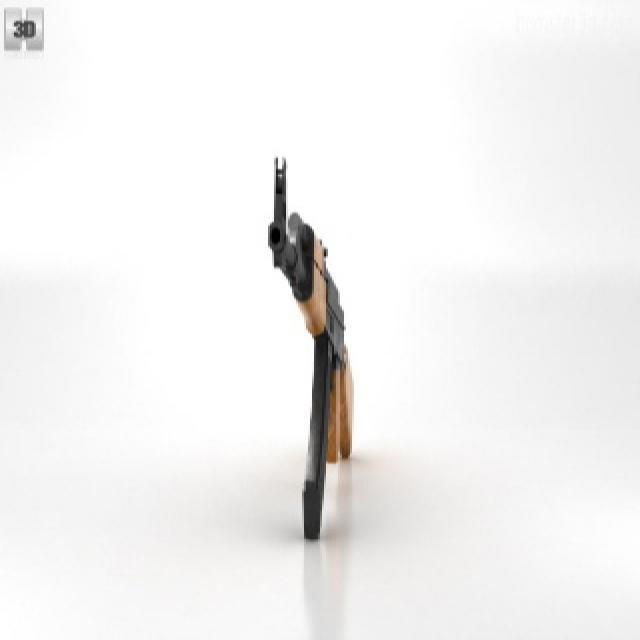weapon: (248, 145, 360, 549)
